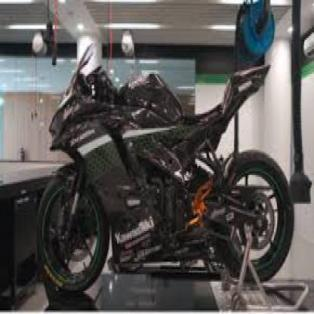Motocicleta: (36, 45, 294, 296)
